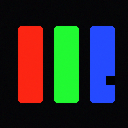1 square: (106, 76, 114, 84)
